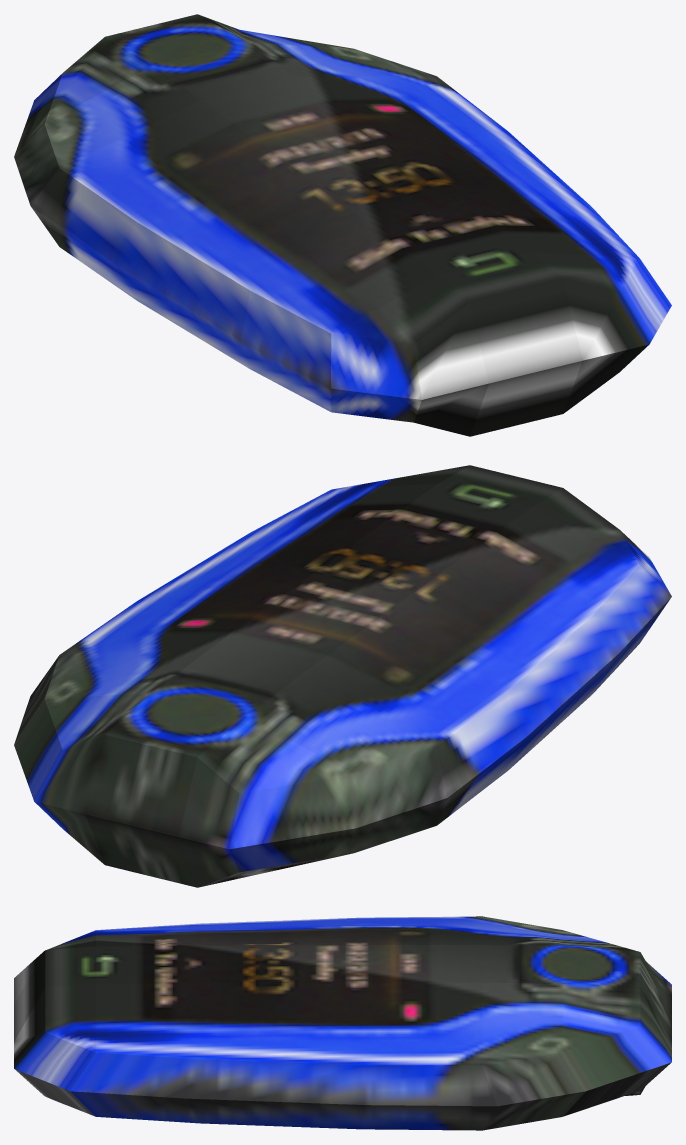
File: key_fob3.fbx
3 renders of one model, top to bottom at view 1: azimuth 30°, elevation 25°; view 2: azimuth 150°, elevation 25°; view 3: azimuth 270°, elevation 25°, orthographic. The views are drawn at different scales.
Visible parts, largest first — view 1: key_fob3; view 2: key_fob3; view 3: key_fob3.
Part boxes in pixels (box(x1,y1,x2,y2)): key_fob3: box(14, 14, 671, 436); key_fob3: box(14, 465, 671, 887); key_fob3: box(14, 916, 671, 1130).
Bounding box in the file's own units: 11.65 × 3.91 × 19.54.
1 material, 1 textured.
